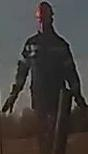gloves: (2, 94, 16, 115), (73, 95, 88, 113)
helmet: (33, 0, 55, 18)
vest: (16, 33, 79, 118)
